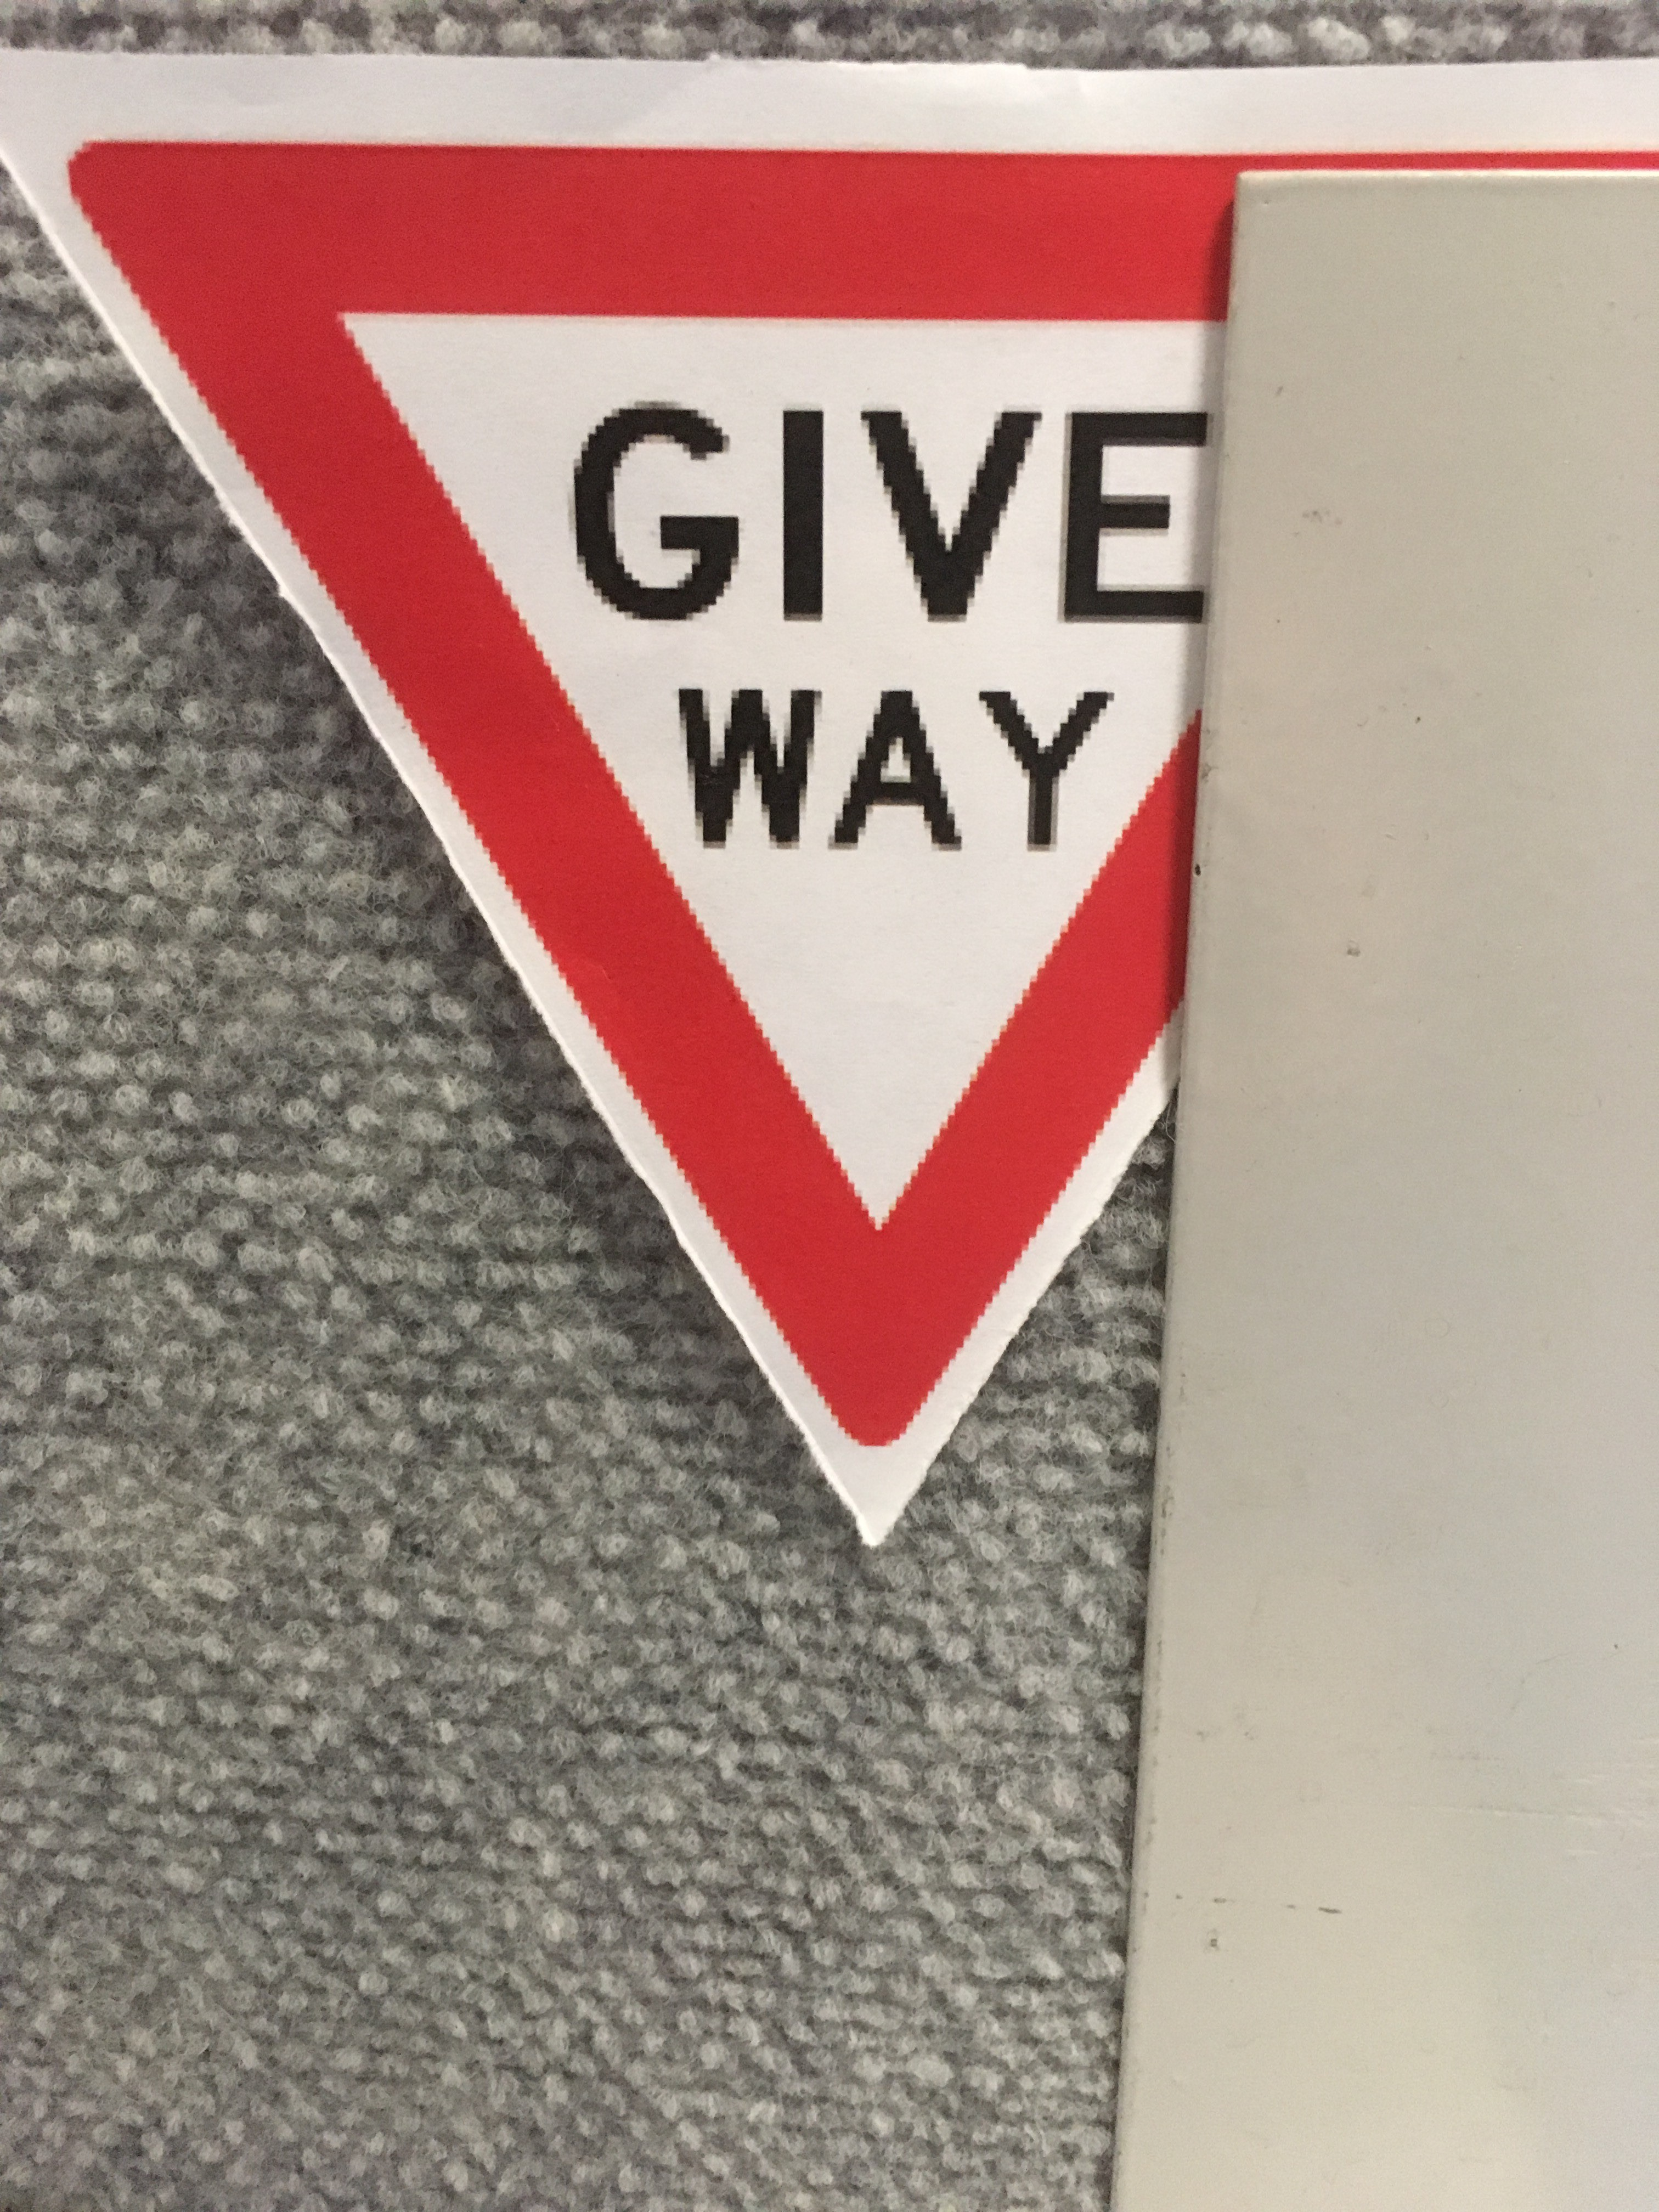giveway: (73, 157, 1344, 1467), (82, 145, 1164, 1407), (237, 152, 1298, 801), (847, 150, 1272, 1480)
